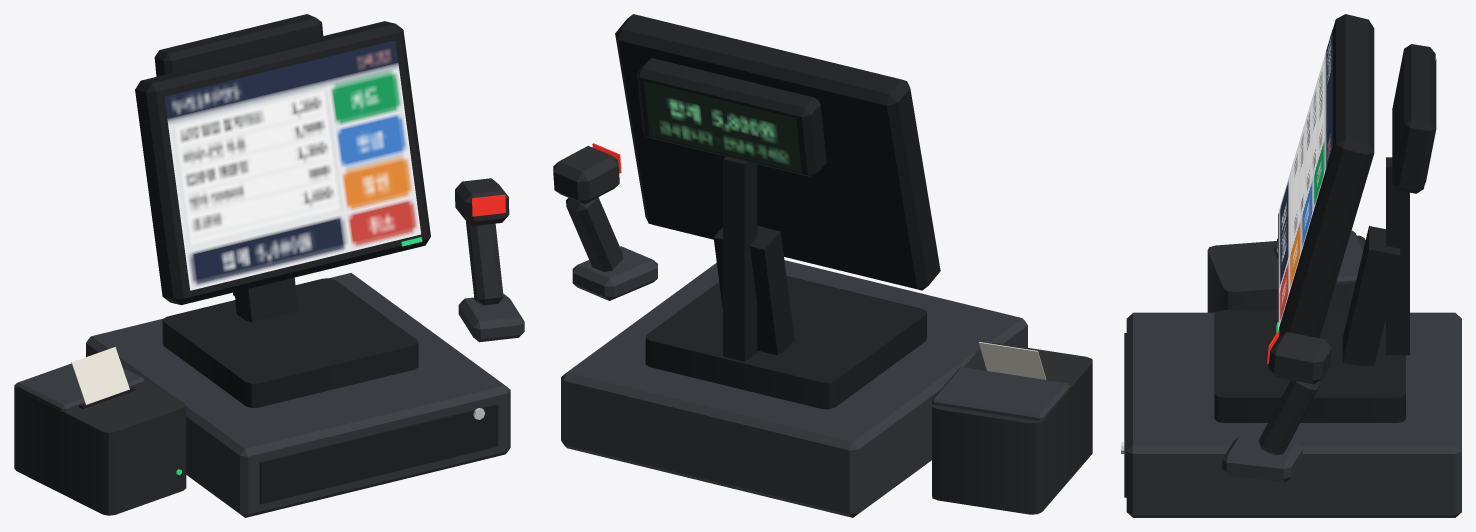
The model's file is SC_Fix_POS_Terminal.gltf.
3 views of the same model, side by side, from view 1: azimuth 30°, elevation 25°; view 2: azimuth 150°, elevation 25°; view 3: azimuth 270°, elevation 25° (orthographic). The views are drawn at different scales.
Parts seen in each view (by area): view 1: SC_Fix_POS_Terminal; view 2: SC_Fix_POS_Terminal; view 3: SC_Fix_POS_Terminal.
Boxes of the visible parts, x1=… form: SC_Fix_POS_Terminal: x1=14, y1=14, x2=524, y2=517; SC_Fix_POS_Terminal: x1=553, y1=14, x2=1092, y2=517; SC_Fix_POS_Terminal: x1=1121, y1=14, x2=1461, y2=517.
Bounding box in the file's own units: 0.7032 × 0.5188 × 0.427.
Materials: 3 (3 with a texture image).
